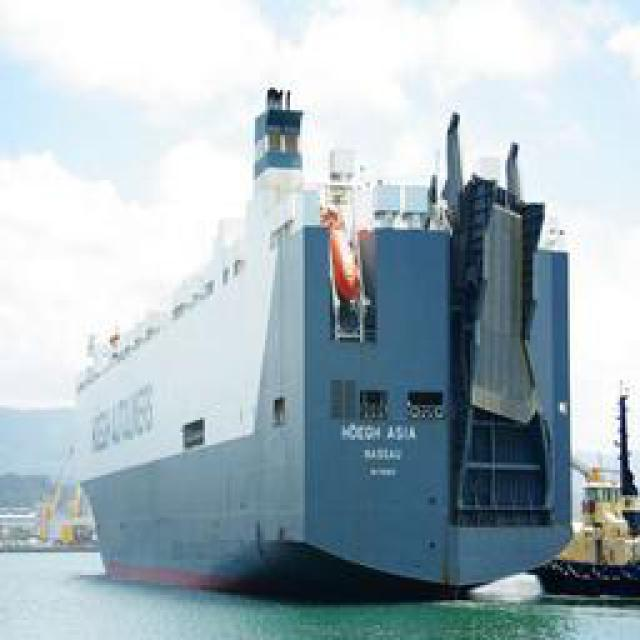Ship: (66, 66, 580, 606), (536, 369, 640, 608)
